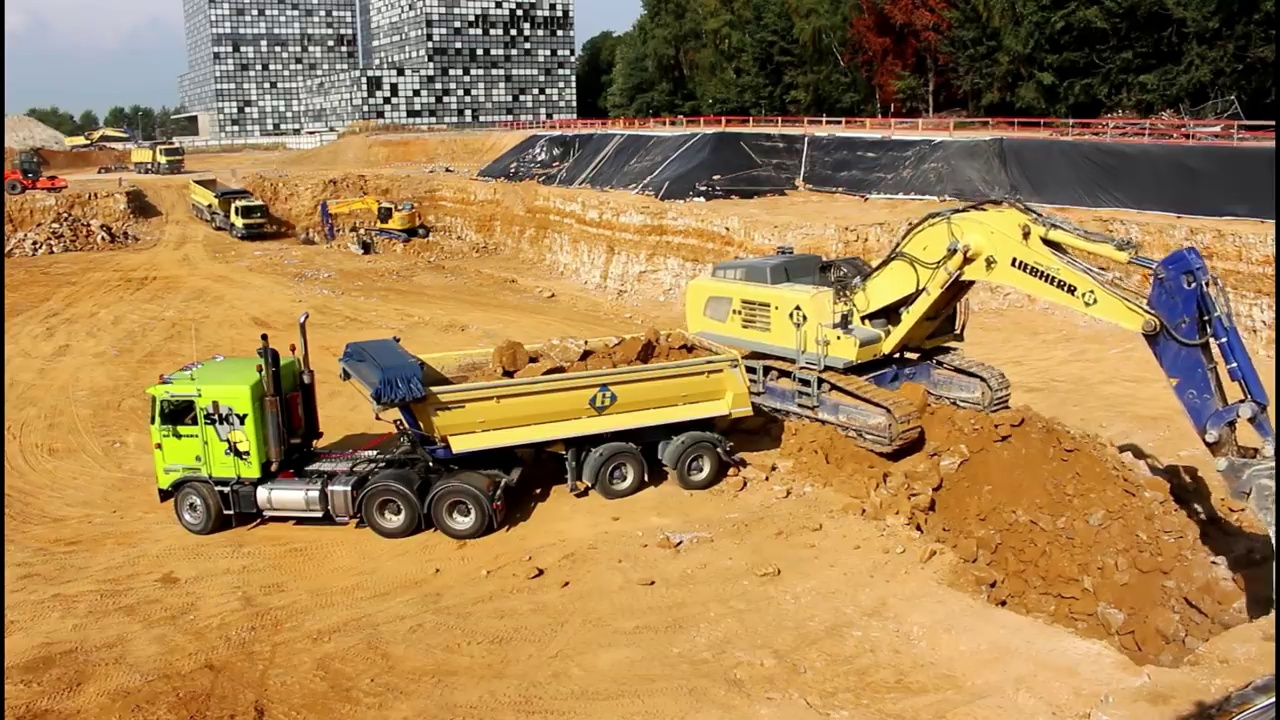compactor: (1, 152, 71, 196)
excavator: (645, 190, 1280, 555), (304, 193, 435, 252), (60, 119, 130, 158)
truck: (143, 306, 757, 544), (183, 174, 276, 243), (123, 138, 188, 179)
